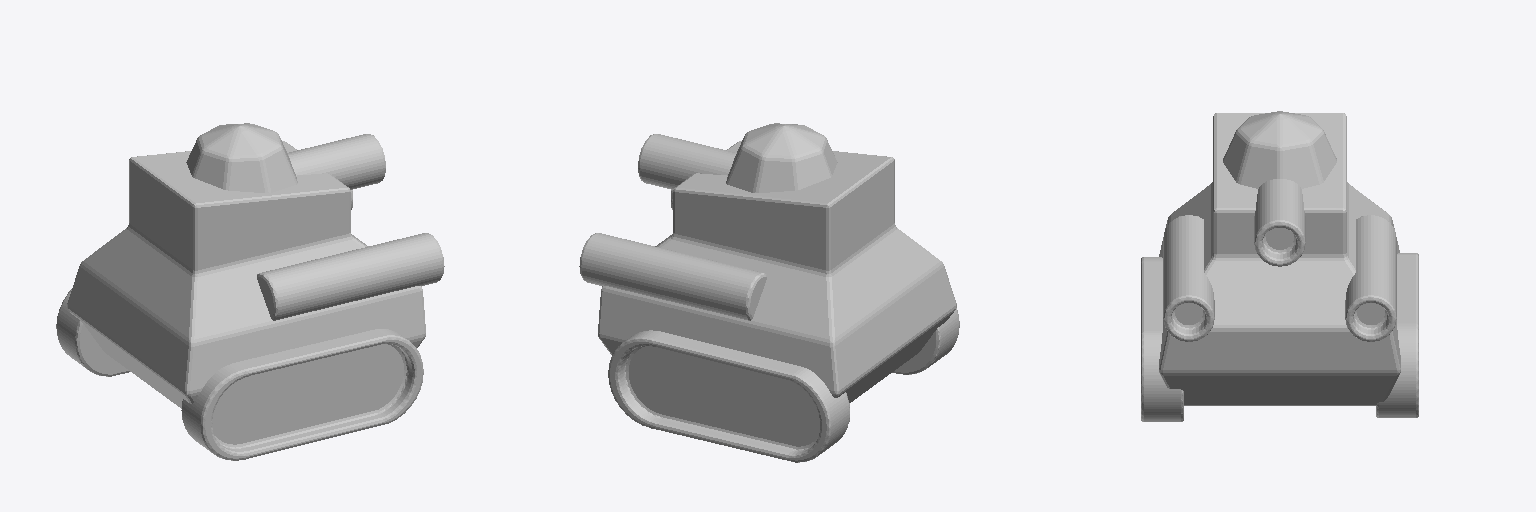
The model's file is WarHeavy.obj.
3 views of the same model, side by side, from view 1: azimuth 30°, elevation 25°; view 2: azimuth 150°, elevation 25°; view 3: azimuth 270°, elevation 25° (orthographic).
Visible parts, largest first — view 1: Cube; view 2: Cube; view 3: Cube.
Boxes of the visible parts, x1,y1,x2,y2 form: Cube: [56, 123, 444, 460]; Cube: [579, 123, 959, 462]; Cube: [1141, 111, 1418, 421].
Bounding box in the file's own units: 3.33 × 3.25 × 3.06.